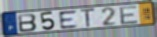2: (100, 7, 118, 27)
5: (40, 11, 56, 31)
B: (17, 13, 38, 33)
E: (119, 4, 140, 26), (57, 9, 79, 30)
T: (80, 7, 97, 29)
